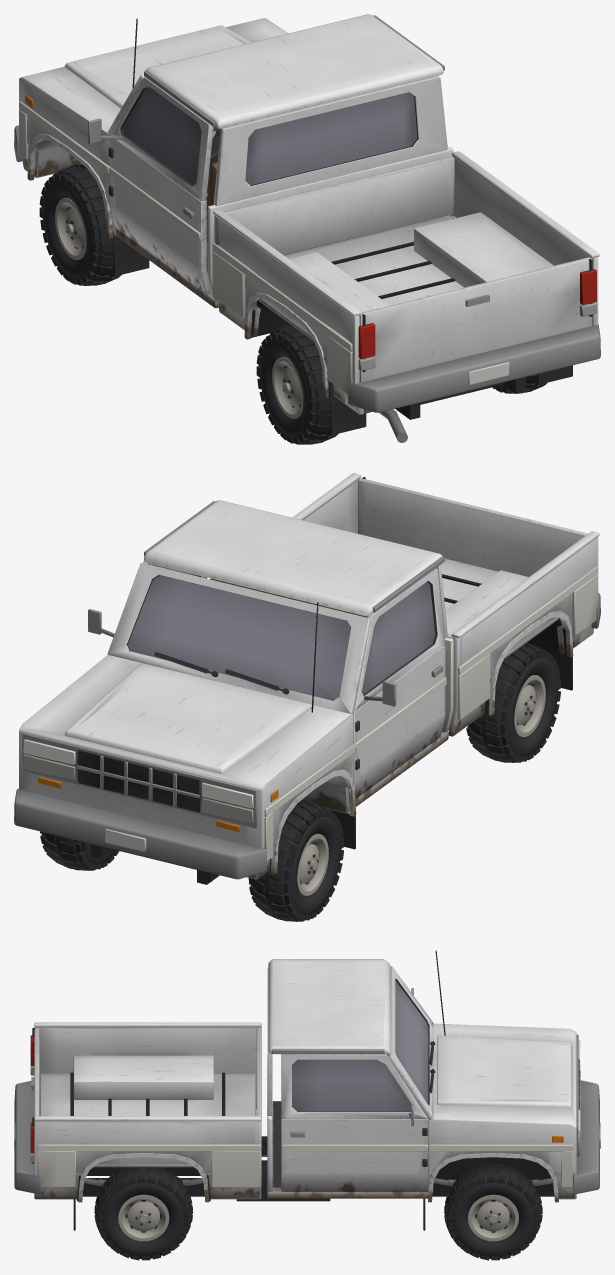
The model's file is sierra.glb.
3 views of the same model, one above another, from view 1: azimuth 30°, elevation 25°; view 2: azimuth 150°, elevation 25°; view 3: azimuth 270°, elevation 25° (orthographic). The views are drawn at different scales.
Parts seen in each view (by area): view 1: body, door_FL, wheel_FL, wheel_RL, cab_interior; view 2: body, door_FL, wheel_FL, wheel_RL, wheel_FR; view 3: body, door_FR, wheel_FR, wheel_RR, cab_interior.
Boxes of the visible parts, x1,y1,x2,y2 form: body: (14, 14, 600, 442); door_FL: (88, 77, 213, 293); wheel_FL: (39, 164, 121, 285); wheel_RL: (256, 324, 338, 444); cab_interior: (206, 130, 220, 272); body: (14, 473, 600, 884); door_FL: (353, 568, 446, 798); wheel_FL: (248, 800, 343, 921); wheel_RL: (466, 643, 560, 762); wheel_FR: (40, 831, 119, 870); body: (14, 950, 600, 1230); door_FR: (281, 1054, 428, 1192); wheel_FR: (444, 1163, 542, 1260); wheel_RR: (94, 1167, 192, 1260); cab_interior: (273, 1054, 386, 1187).
Bounding box in the file's own units: 2.44 × 2.16 × 5.01.
Materials: 17 (1 with a texture image).
